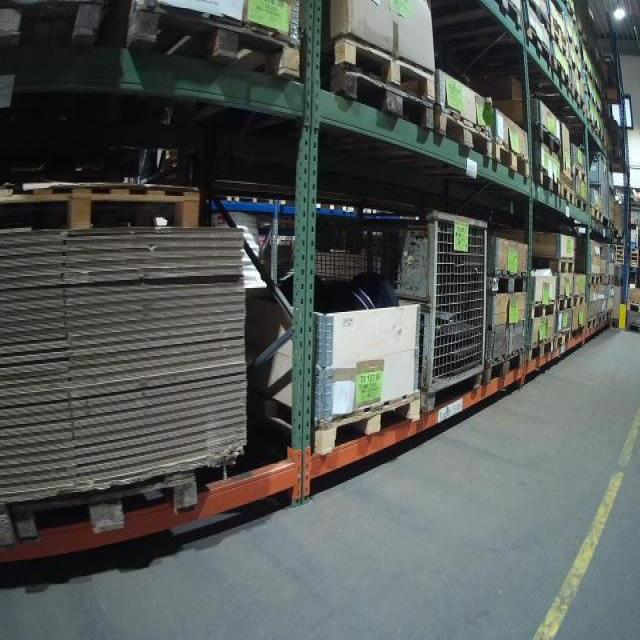pallet: (2, 459, 205, 553), (126, 0, 302, 85), (246, 386, 424, 452), (316, 32, 442, 98), (2, 190, 202, 231), (316, 69, 434, 136), (3, 1, 108, 53), (429, 106, 493, 168), (440, 2, 528, 33), (496, 124, 564, 159), (492, 136, 534, 182), (484, 344, 525, 390), (481, 267, 530, 299), (523, 18, 549, 67), (530, 254, 578, 275), (526, 335, 558, 366), (521, 171, 559, 197), (565, 24, 587, 58), (549, 53, 569, 89), (529, 298, 557, 323), (568, 85, 586, 119), (549, 12, 569, 42), (566, 58, 585, 88), (550, 33, 571, 58), (560, 180, 573, 210), (555, 325, 567, 357), (572, 163, 588, 184), (557, 295, 573, 314), (590, 203, 605, 223), (575, 195, 588, 216), (585, 315, 600, 332), (572, 295, 586, 311), (585, 273, 601, 287), (570, 325, 582, 343)
stillage: (266, 206, 492, 418), (581, 148, 610, 229)
